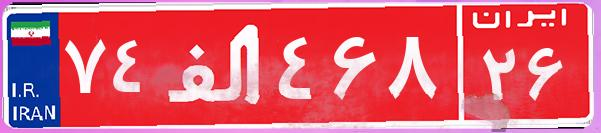2: (475, 38, 525, 113)
4: (273, 28, 330, 110), (110, 28, 158, 105)
6: (330, 28, 385, 110), (525, 38, 570, 115)
7: (57, 26, 110, 107)
8: (385, 28, 445, 110)
الف: (158, 15, 273, 115)
